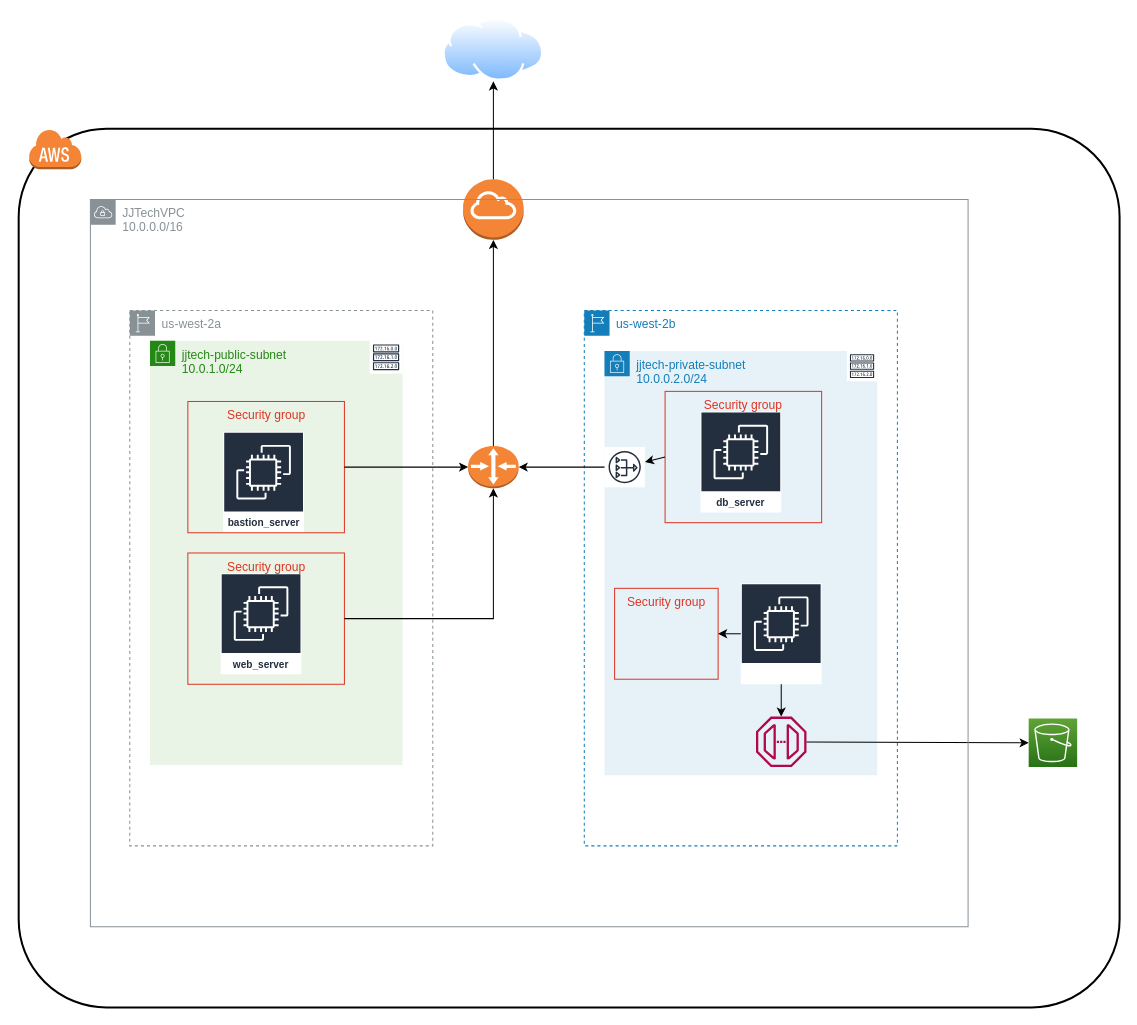
Image size: 1137x1025. Some labels were removed from this diagram. The centre of each missing label's shape, as x and y in pixels:
db2_server: (x=781, y=633)
Main-RT: (x=861, y=365)
NAT gateway: (x=624, y=466)
Secondary-RT: (x=385, y=357)
